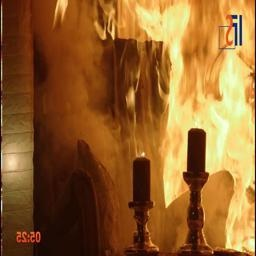fire: (129, 2, 254, 256)
